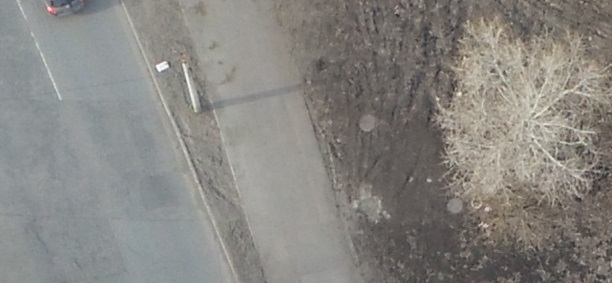opora: (153, 54, 254, 115)
